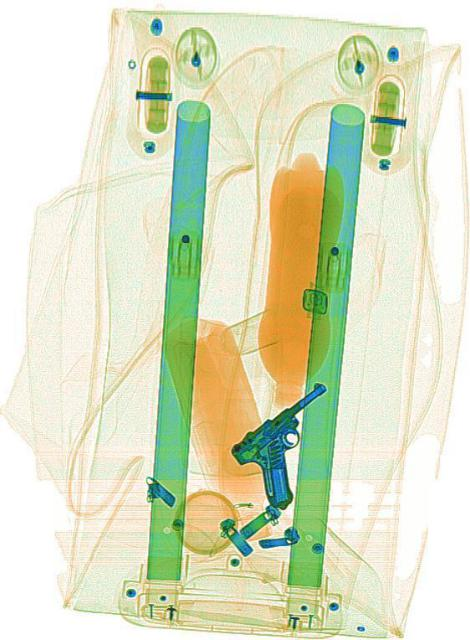Gun: (229, 372, 356, 518)
